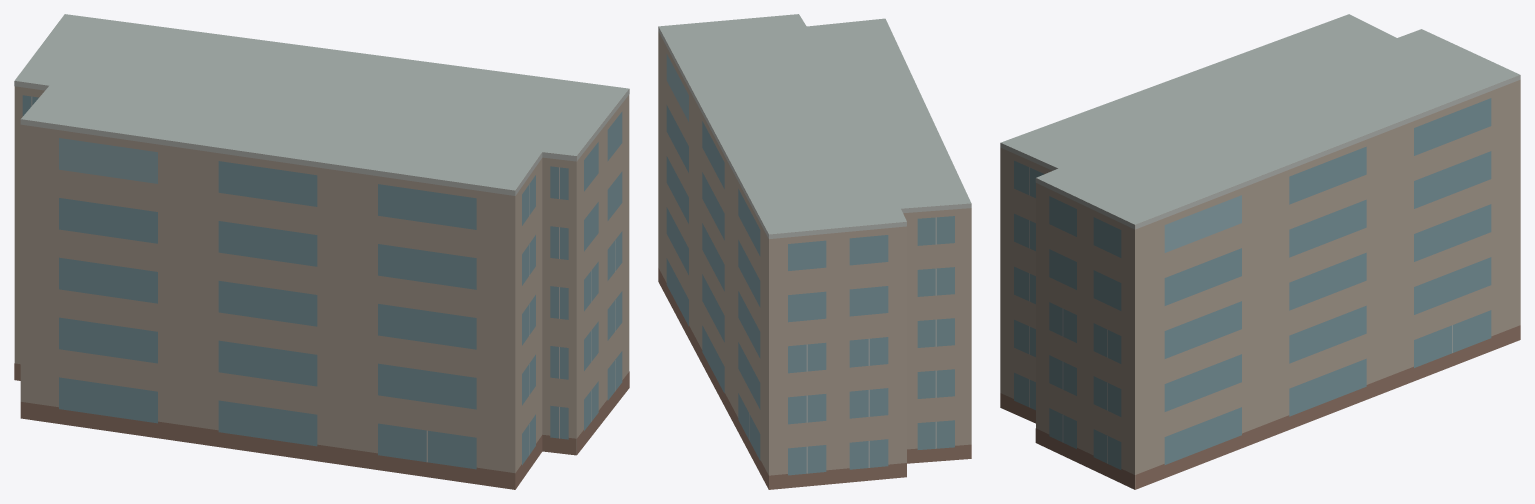
The model's file is survey-upis-32826343.glb.
The picture shows the model from 3 angles, left to right: view 1: azimuth 30°, elevation 25°; view 2: azimuth 150°, elevation 25°; view 3: azimuth 270°, elevation 25°; orthographic projection. The views are drawn at different scales.
Visible parts, largest first — view 1: survey-upis-32826343.tmp; view 2: survey-upis-32826343.tmp; view 3: survey-upis-32826343.tmp.
Boxes of the visible parts, x1=… form: survey-upis-32826343.tmp: x1=14, y1=14, x2=629, y2=489; survey-upis-32826343.tmp: x1=658, y1=14, x2=971, y2=489; survey-upis-32826343.tmp: x1=1000, y1=14, x2=1520, y2=489.
Size of the model in its own units: 22.87 by 13.4 by 23.84.
